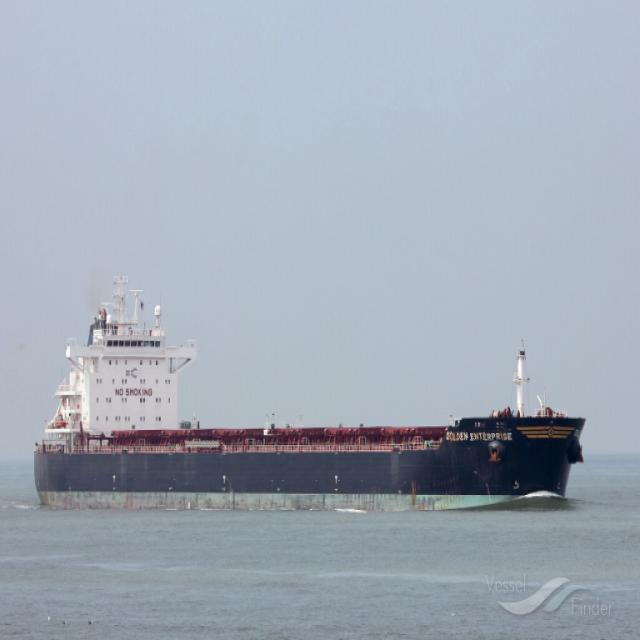OCR: (443, 423, 516, 446)
